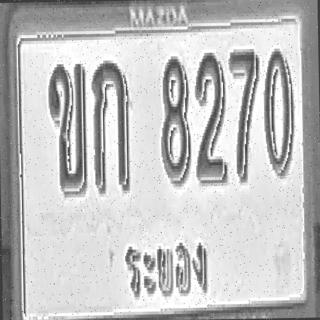A01: (91, 58, 131, 192)
A02: (48, 59, 88, 193)
N00: (263, 45, 295, 176)
N02: (194, 50, 227, 182)
N07: (228, 46, 260, 182)
N08: (160, 54, 190, 185)
P53: (121, 226, 212, 303)
